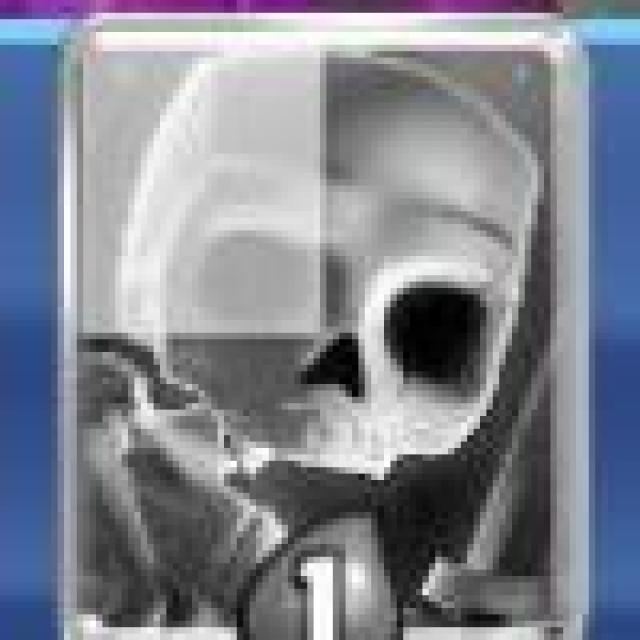Skeletons: (73, 27, 586, 640)
